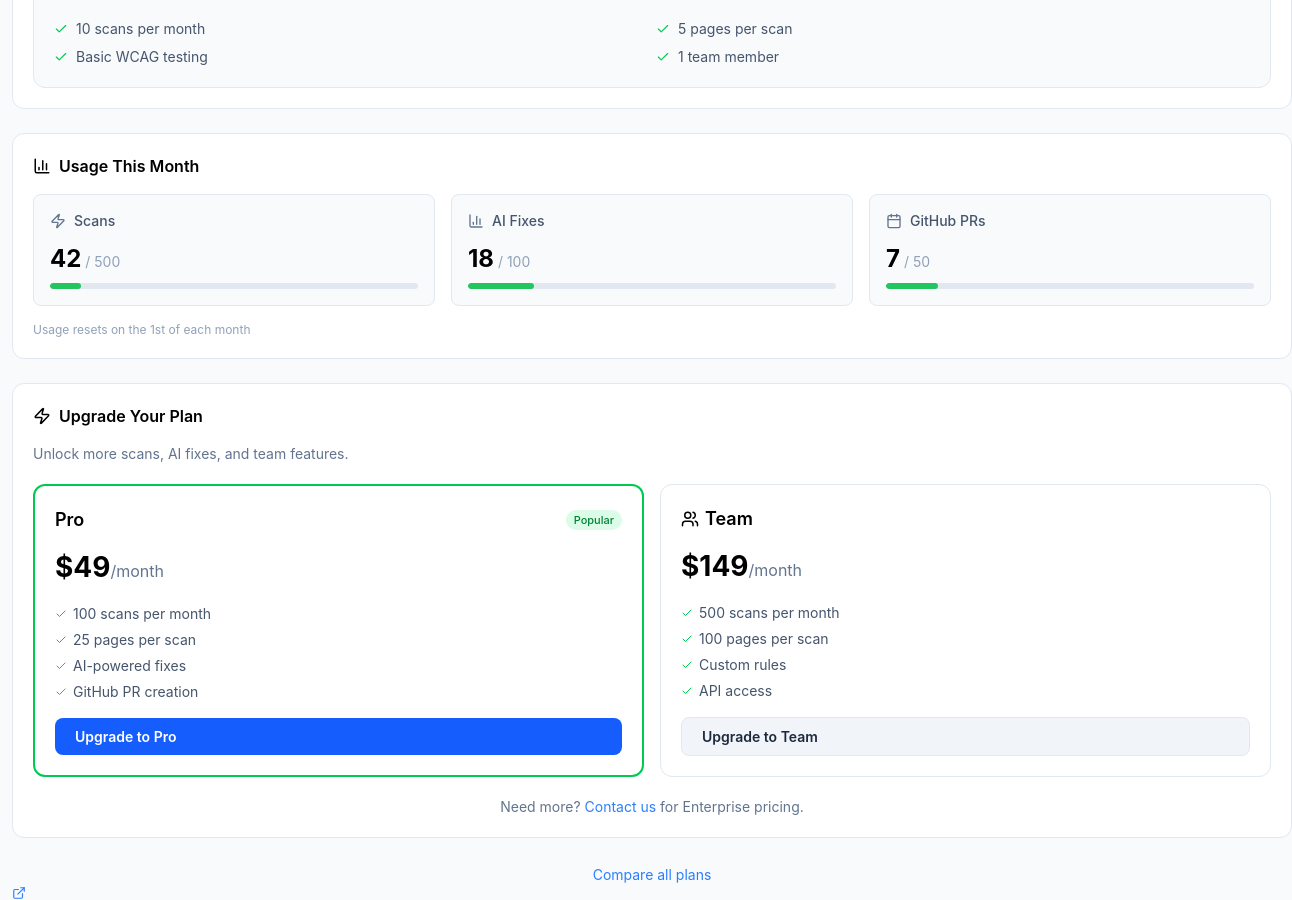
settings/BillingSettings › handles upgrade to Pro in mock mode
This screenshot has width=1292, height=900.
(page scrolled)
Click the button "Upgrade to Pro" at (126, 736), box [55,718,622,755]
(page scrolled)
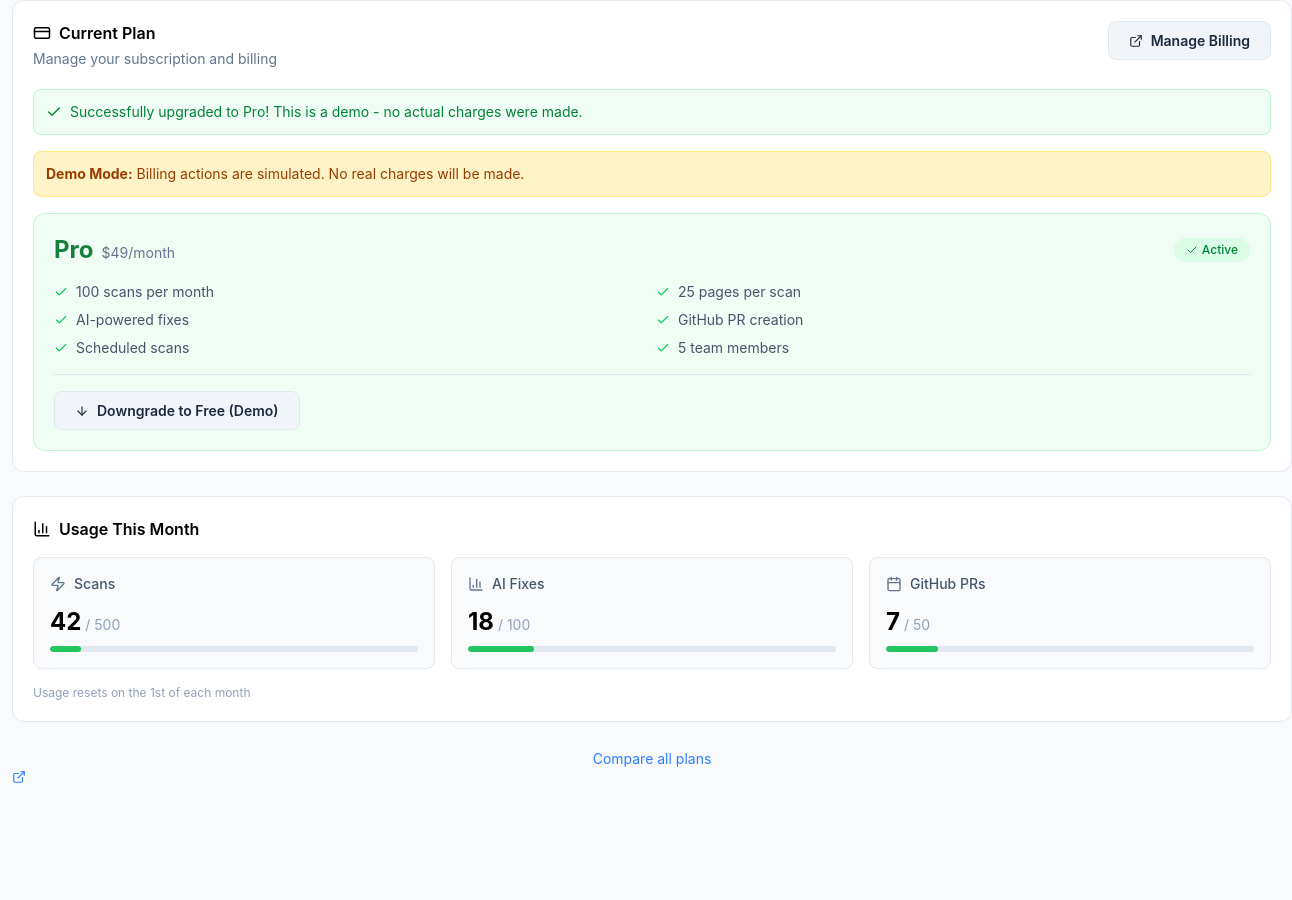
Now the text "Successfully upgraded to Pro" is shown, box [70,103,583,120]
Now the text "Pro" is shown, box [54,235,94,264]
